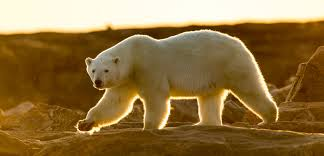PolarBear: (70, 24, 285, 134)
